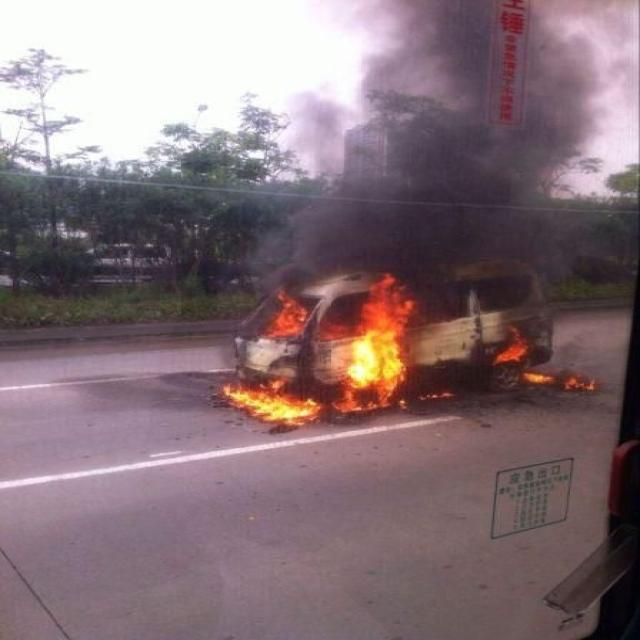Fire: (331, 272, 413, 414), (218, 378, 322, 427), (257, 286, 312, 342), (520, 371, 600, 392), (490, 326, 530, 364)
Smoke: (248, 1, 640, 296)
